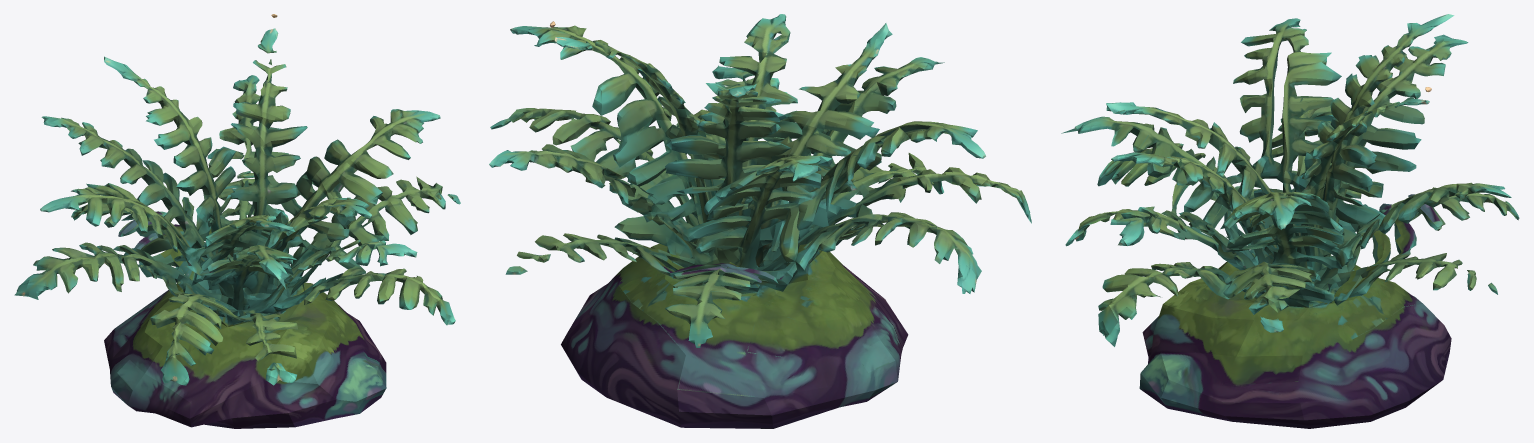
The model's file is env_fern_1m_a.glb.
3 views of the same model, side by side, from view 1: azimuth 30°, elevation 25°; view 2: azimuth 150°, elevation 25°; view 3: azimuth 270°, elevation 25° (orthographic). The views are drawn at different scales.
Visible parts, largest first — view 1: Mesh0; view 2: Mesh0; view 3: Mesh0.
Boxes of the visible parts, x1,y1,x2,y2 form: Mesh0: (14, 14, 460, 428); Mesh0: (489, 14, 1031, 428); Mesh0: (1061, 14, 1519, 428).
Size of the model in its own units: 1.75 by 1.18 by 1.5.
1 material, 1 textured.
